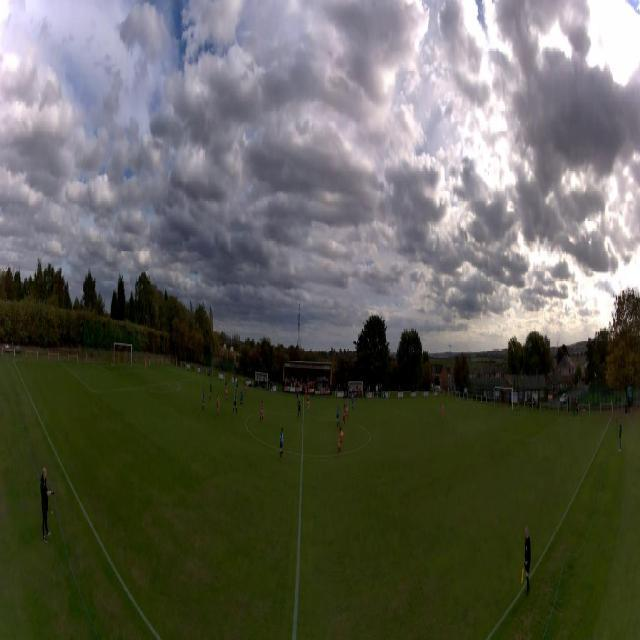player: (279, 428, 285, 460), (338, 428, 344, 454), (260, 400, 265, 422), (336, 405, 341, 427), (233, 393, 237, 414), (297, 398, 301, 419), (217, 393, 220, 419), (240, 390, 244, 409), (307, 395, 311, 413), (343, 404, 346, 426), (296, 389, 300, 405), (209, 381, 212, 400), (345, 401, 348, 420), (441, 403, 444, 421), (225, 386, 228, 402), (351, 396, 354, 412), (203, 390, 205, 412), (304, 387, 307, 401), (244, 383, 247, 395), (235, 381, 238, 393), (145, 357, 147, 373), (225, 377, 227, 387)
